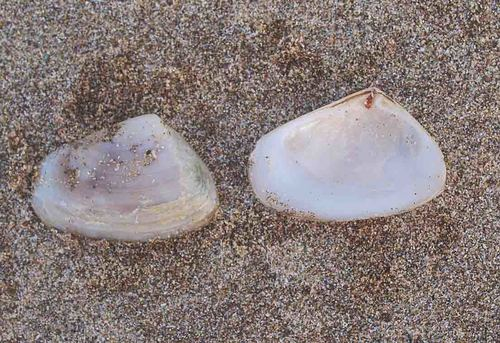tuatua: (23, 106, 227, 245), (247, 86, 450, 221)
